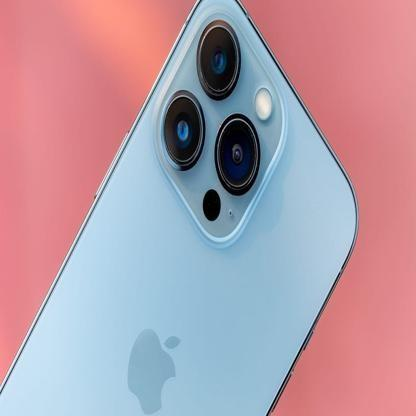not trash: (0, 0, 361, 413)
